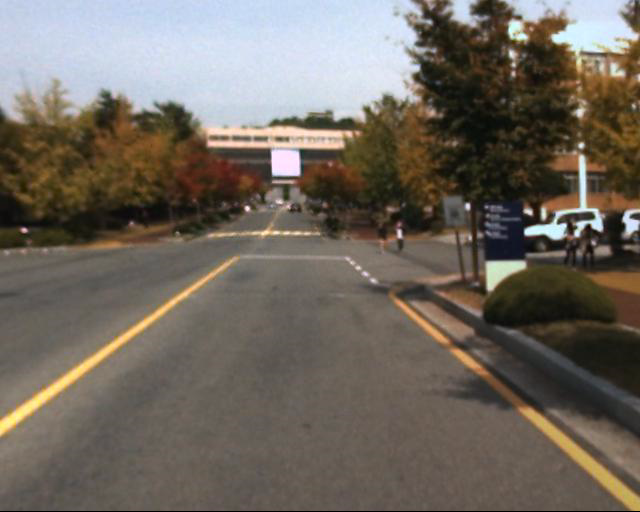person: (570, 223, 590, 274), (557, 224, 577, 273)
